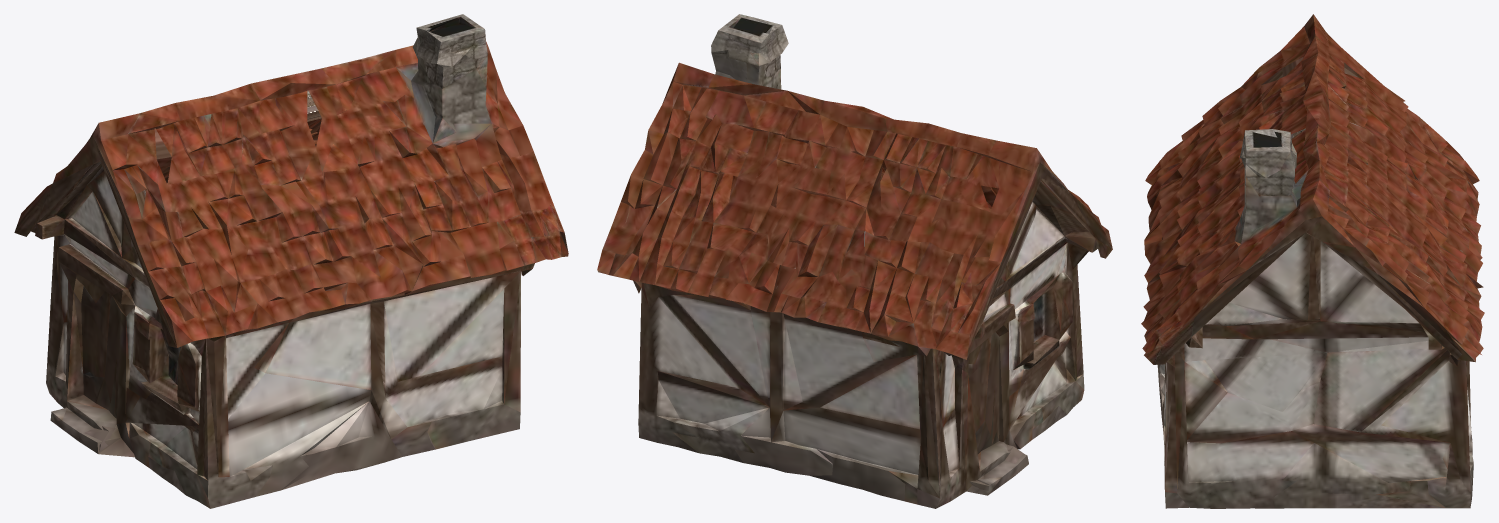
Rendered from cottage.glb.
3 renders of one model, left to right at view 1: azimuth 30°, elevation 25°; view 2: azimuth 150°, elevation 25°; view 3: azimuth 270°, elevation 25°, orthographic. The views are drawn at different scales.
Size of the model in its own units: 1.9 by 1.7 by 1.47.
1 material, 1 textured.
